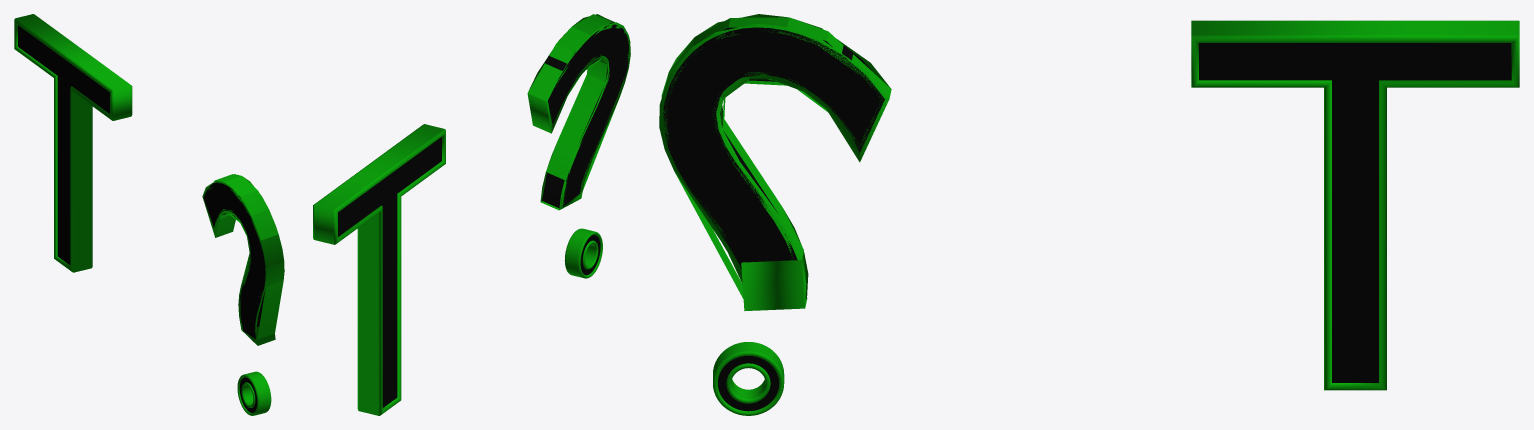
3 views of the same model, side by side, from view 1: azimuth 30°, elevation 25°; view 2: azimuth 150°, elevation 25°; view 3: azimuth 270°, elevation 25° (orthographic). The views are drawn at different scales.
Visible parts, largest first — view 1: T, S, Å; view 2: T, S, Å; view 3: T, S, Å.
Part boxes in pixels (x1,y1,x2,y2): T: (14, 14, 132, 272); S: (202, 174, 284, 345); Å: (237, 371, 271, 415); T: (313, 124, 445, 415); S: (527, 14, 630, 210); Å: (564, 228, 602, 278); T: (1191, 20, 1519, 390); S: (659, 14, 891, 311); Å: (713, 342, 784, 415).
Bounding box in the file's own units: 14.21 × 75.75 × 153.
